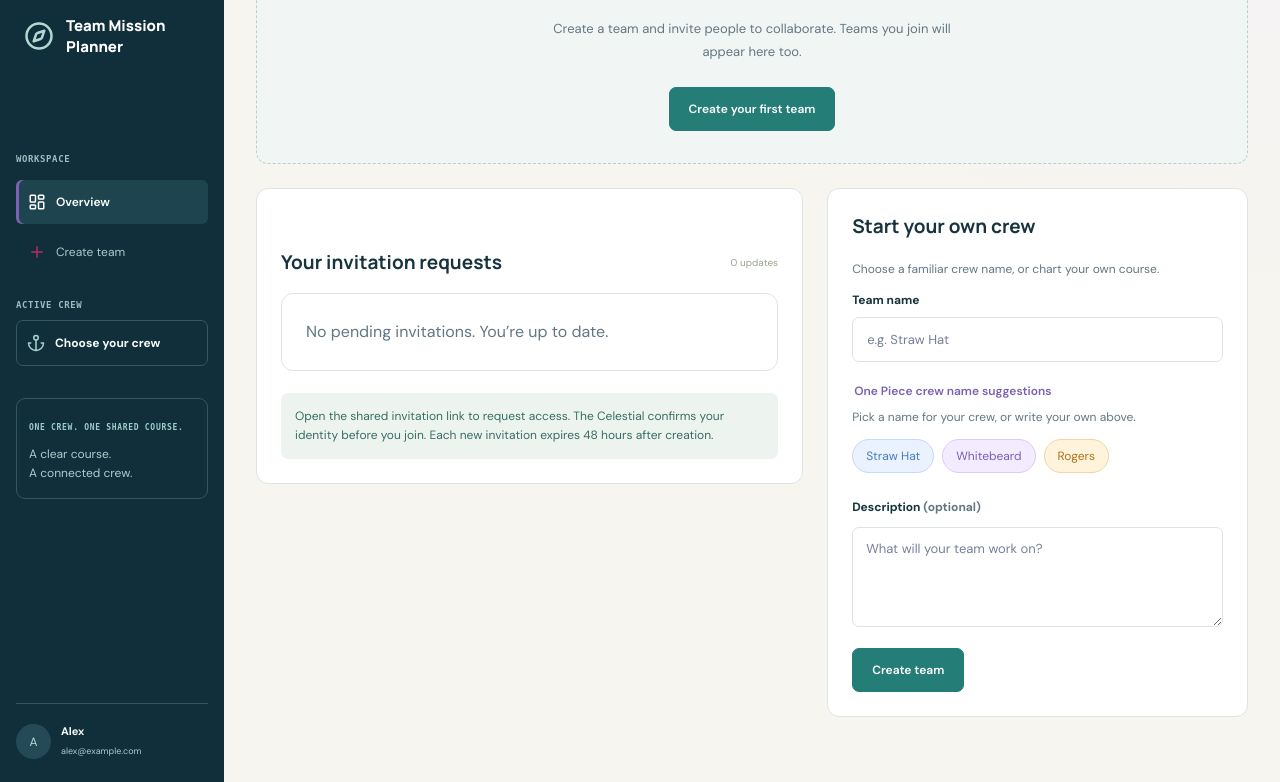
Test: Team and invitation screens › creates a crew inline on the dashboard using a suggested name
(page scrolled)
Click the button "Straw Hat". click: (893, 456)
box: [852,439,934,473]
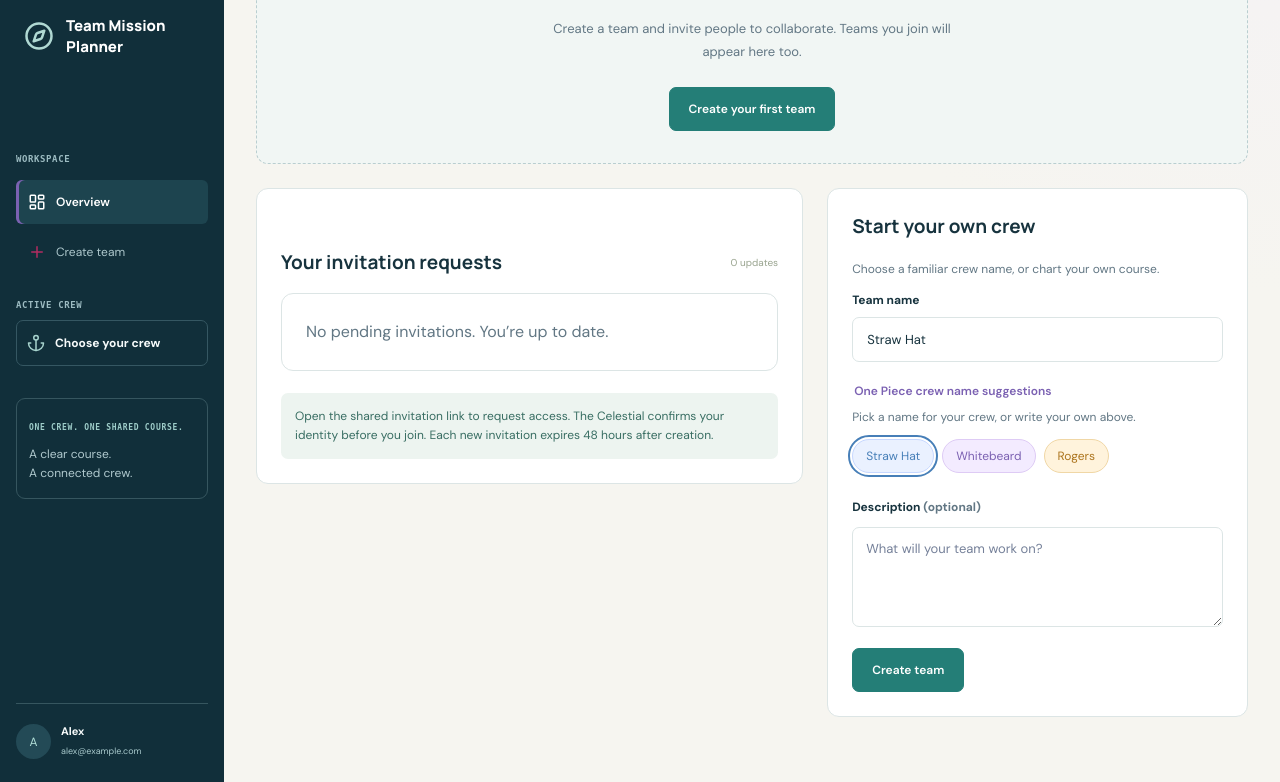
Click the button "Create team". click: (908, 670)
box: [852,648,964,692]
(page scrolled)
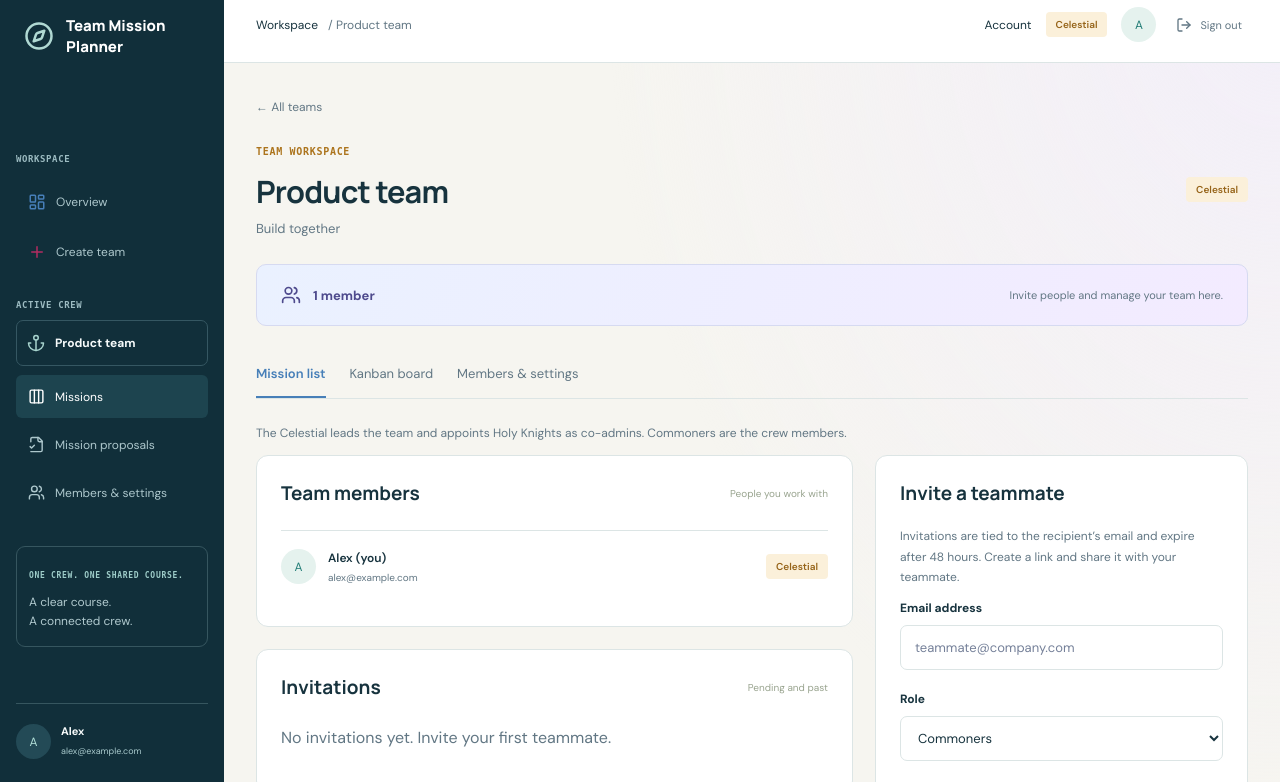
Expected: the text "Alex (you)" is shown, [328,550,386,566]
